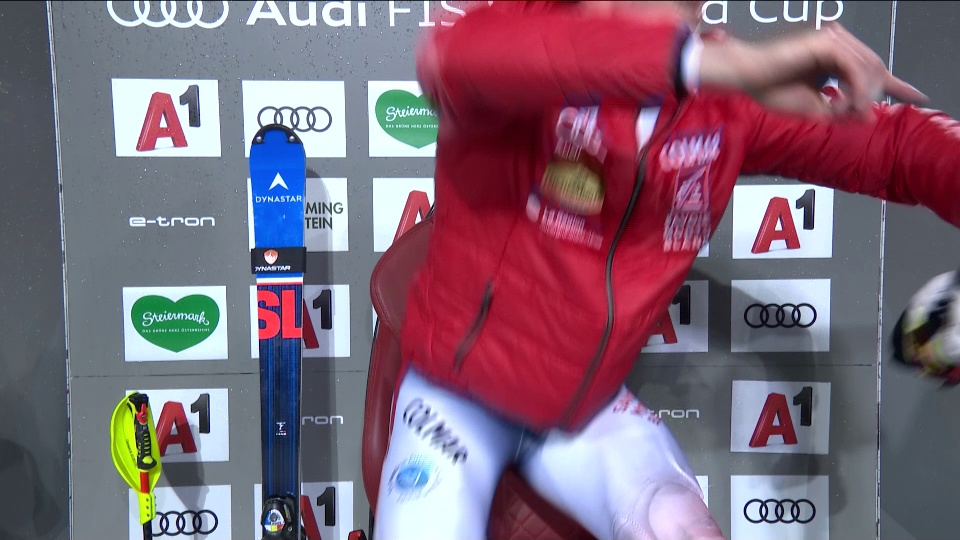a1: (129, 86, 210, 151), (745, 385, 823, 452), (748, 189, 825, 253), (639, 285, 707, 350), (153, 395, 216, 462)
audi: (112, 2, 227, 35), (257, 104, 334, 139), (742, 301, 820, 335), (742, 496, 820, 528), (151, 508, 220, 539)
etron: (127, 214, 221, 232), (636, 403, 707, 423)
steiermark: (122, 292, 230, 353), (377, 86, 450, 149)
